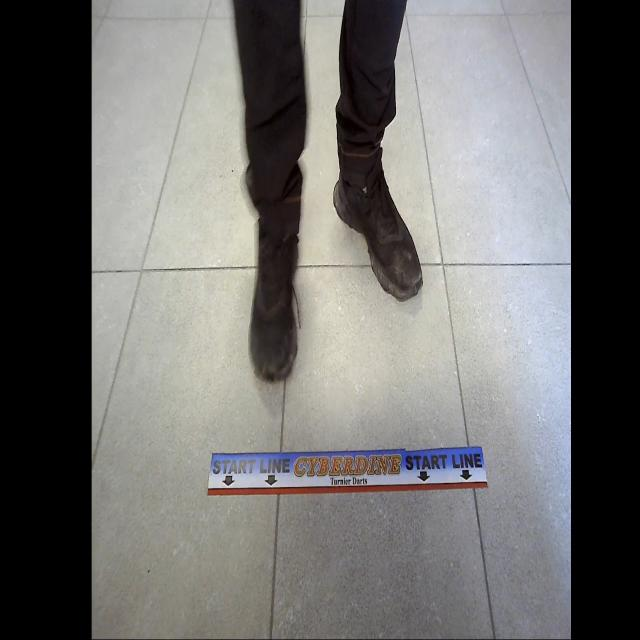foot: (332, 164, 422, 301), (248, 224, 300, 382)
